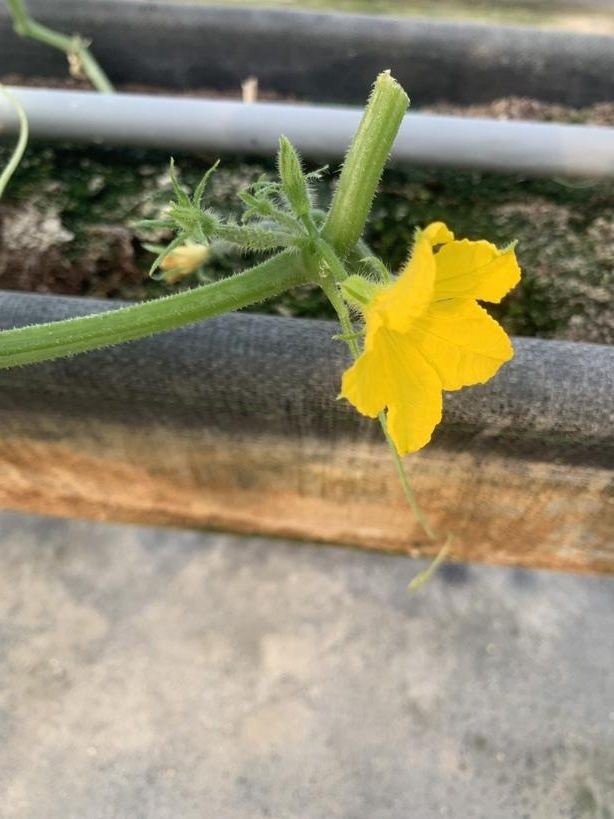flowering: (302, 222, 532, 457)
